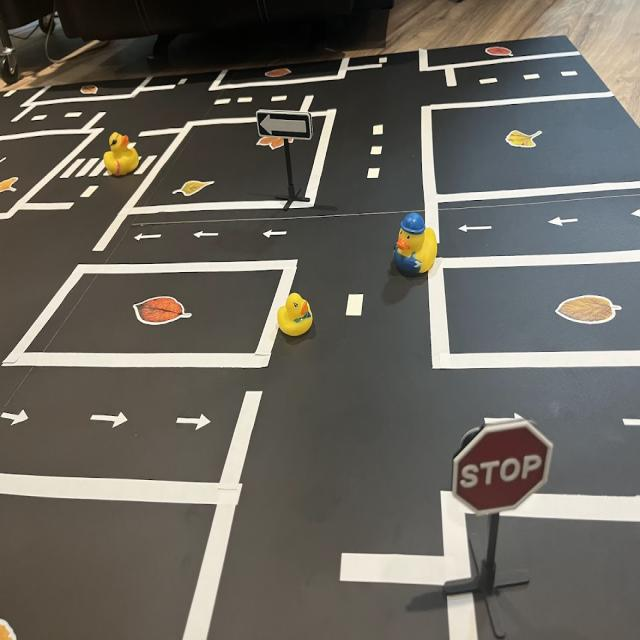duck_regular: (277, 291, 314, 342)
duck_specialty: (393, 210, 441, 283), (101, 131, 139, 177)
road_crosswalk: (57, 153, 162, 179)
road_oneway: (483, 411, 539, 432), (88, 406, 129, 434), (175, 410, 215, 435), (1, 407, 34, 431), (548, 212, 584, 230), (458, 222, 499, 236), (134, 230, 166, 245), (263, 227, 291, 242), (192, 228, 222, 241), (630, 201, 640, 228)
sign_oneway_left: (257, 108, 317, 144)
sign_stop: (452, 422, 554, 515)
